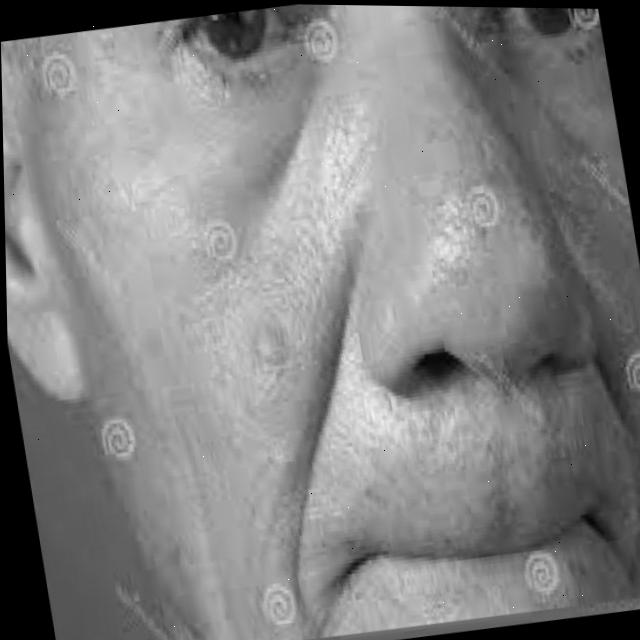Rosacea: (256, 326, 284, 367)
